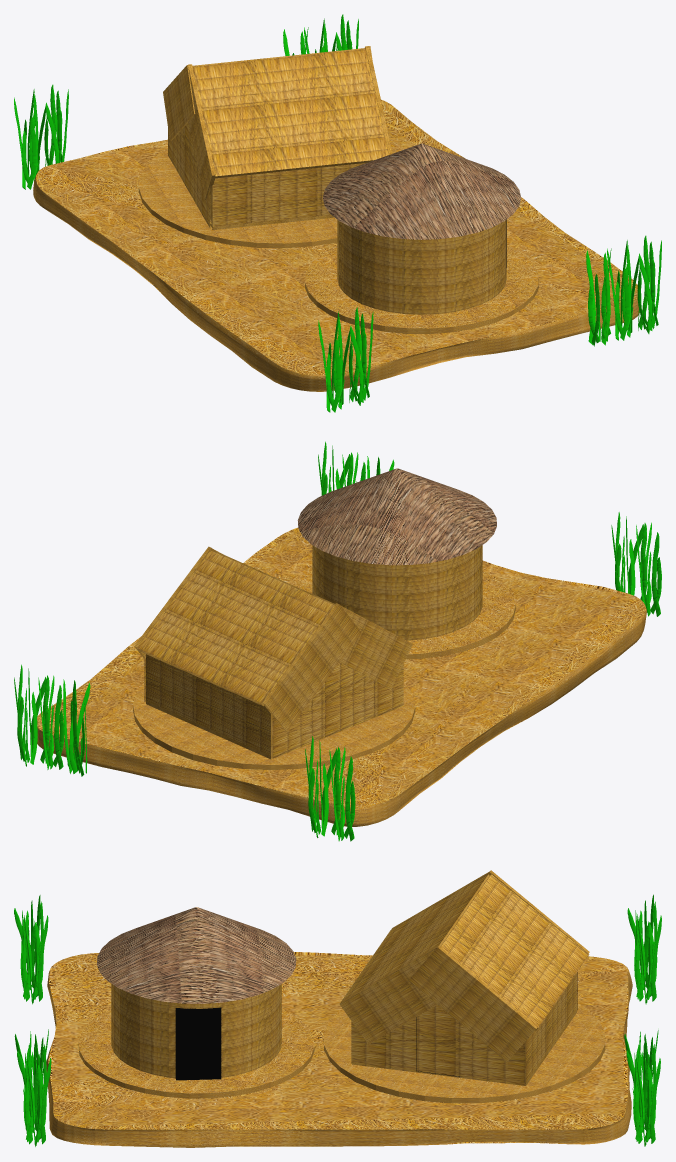
Rendered from islaDer.glb.
3 renders of one model, top to bottom at view 1: azimuth 30°, elevation 25°; view 2: azimuth 150°, elevation 25°; view 3: azimuth 270°, elevation 25°, orthographic.
Visible parts, largest first — view 1: Cube.001, Cylinder.001, Cylinder.017, Cone, Cone.002, Cone.006, Cone.001, Cone.007, Cone.008, Cone.009; view 2: Cube.001, Cylinder.001, Cylinder.017, Cone.008, Cone.004, Cone.007, Cone.005, Cone.009, Cone.003, Cone.006, Cone.002; view 3: Cube.001, Cylinder.001, Cylinder.017, Cone.003, Cone.009, Cone.006, Cone.002, Cone.004, Cone.008, Cone.007, Cone.001, Cone.005 (+1 smaller).
Part boxes in pixels (x1,y1,x2,y2): Cube.001: (33, 99, 639, 391); Cylinder.001: (138, 46, 395, 248); Cylinder.017: (305, 143, 538, 333); Cone: (586, 248, 611, 346); Cone.002: (637, 235, 661, 333); Cone.006: (349, 307, 373, 405); Cone.001: (607, 240, 639, 340); Cone.007: (318, 311, 350, 412); Cone.008: (14, 89, 45, 189); Cone.009: (44, 84, 68, 166); Cube.001: (37, 527, 646, 826); Cylinder.001: (133, 546, 415, 769); Cylinder.017: (291, 468, 515, 659); Cone.008: (329, 747, 355, 841); Cone.004: (38, 675, 64, 769); Cone.007: (636, 522, 661, 616); Cone.005: (63, 679, 90, 776); Cone.009: (305, 736, 337, 837); Cone.003: (14, 664, 46, 766); Cone.006: (611, 512, 643, 595); Cone.002: (318, 441, 350, 495); Cube.001: (46, 952, 632, 1147); Cylinder.001: (323, 870, 605, 1103); Cylinder.017: (78, 907, 314, 1098); Cone.003: (634, 1053, 660, 1146); Cone.009: (635, 910, 661, 1004); Cone.006: (22, 910, 48, 1004); Cone.002: (25, 1053, 51, 1146); Cone.004: (626, 1037, 656, 1132); Cone.008: (627, 894, 657, 989); Cone.007: (14, 895, 43, 990); Cone.001: (17, 1037, 46, 1132); Cone.005: (624, 1030, 658, 1116).
Bounding box in the file's own units: 9.34 × 4.07 × 14.3.
Materials: 18 (6 with a texture image).
